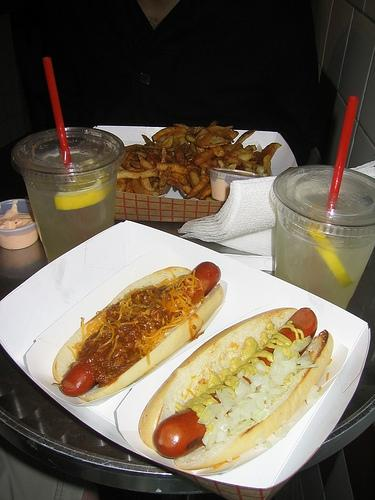lemon: (306, 222, 354, 288), (54, 174, 115, 210)
onion: (196, 403, 224, 424), (278, 352, 298, 377), (289, 335, 312, 354), (216, 390, 231, 411), (215, 414, 231, 432), (235, 382, 248, 396), (230, 413, 242, 426), (240, 406, 251, 420), (300, 354, 312, 366), (251, 404, 264, 415), (216, 430, 227, 442), (236, 367, 247, 379), (202, 433, 211, 445), (276, 364, 284, 377), (260, 382, 270, 392), (255, 368, 264, 377), (276, 388, 286, 394), (264, 374, 270, 383), (282, 355, 290, 361), (258, 388, 266, 393)
